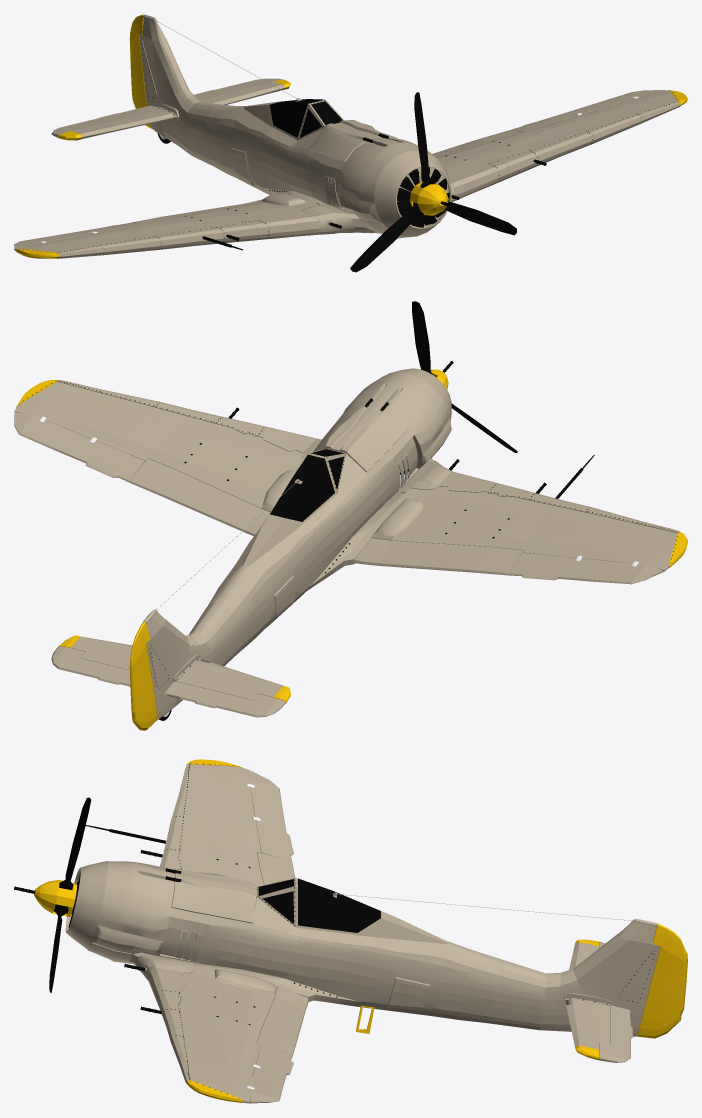
File: avion.fbx
3 renders of one model, top to bottom at view 1: azimuth 30°, elevation 25°; view 2: azimuth 150°, elevation 25°; view 3: azimuth 270°, elevation 25°, orthographic. The views are drawn at different scales.
Visible parts, largest first — view 1: polySurface30.002; view 2: polySurface30.002; view 3: polySurface30.002.
Boxes of the visible parts, x1,y1,x2,y2 form: polySurface30.002: (14,14,687,272); polySurface30.002: (14,301,687,730); polySurface30.002: (14,759,687,1103).
Size of the model in its own units: 506 by 172 by 430.
